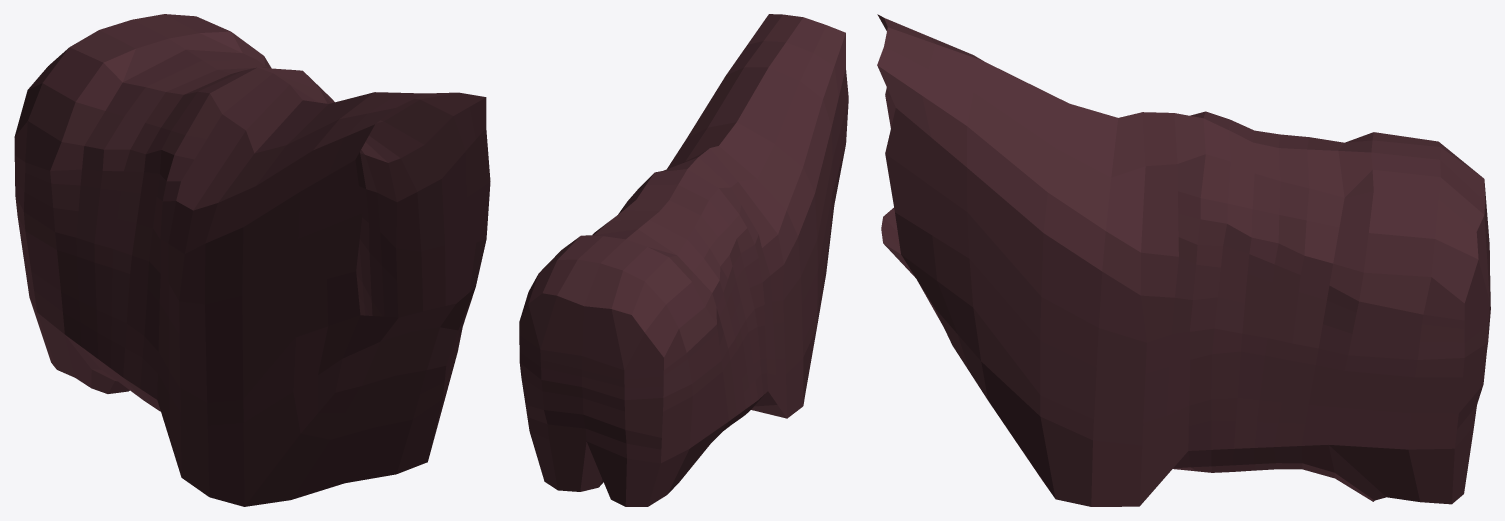
The model's file is moosebody.fbx.
3 views of the same model, side by side, from view 1: azimuth 30°, elevation 25°; view 2: azimuth 150°, elevation 25°; view 3: azimuth 270°, elevation 25° (orthographic). The views are drawn at different scales.
Visible parts, largest first — view 1: body; view 2: body; view 3: body.
Boxes of the visible parts, left/top/right/bottom form: body: left=14, top=14, right=490, bottom=506; body: left=519, top=14, right=848, bottom=506; body: left=877, top=14, right=1490, bottom=506.
Size of the model in its own units: 96.26 by 174 by 215.
